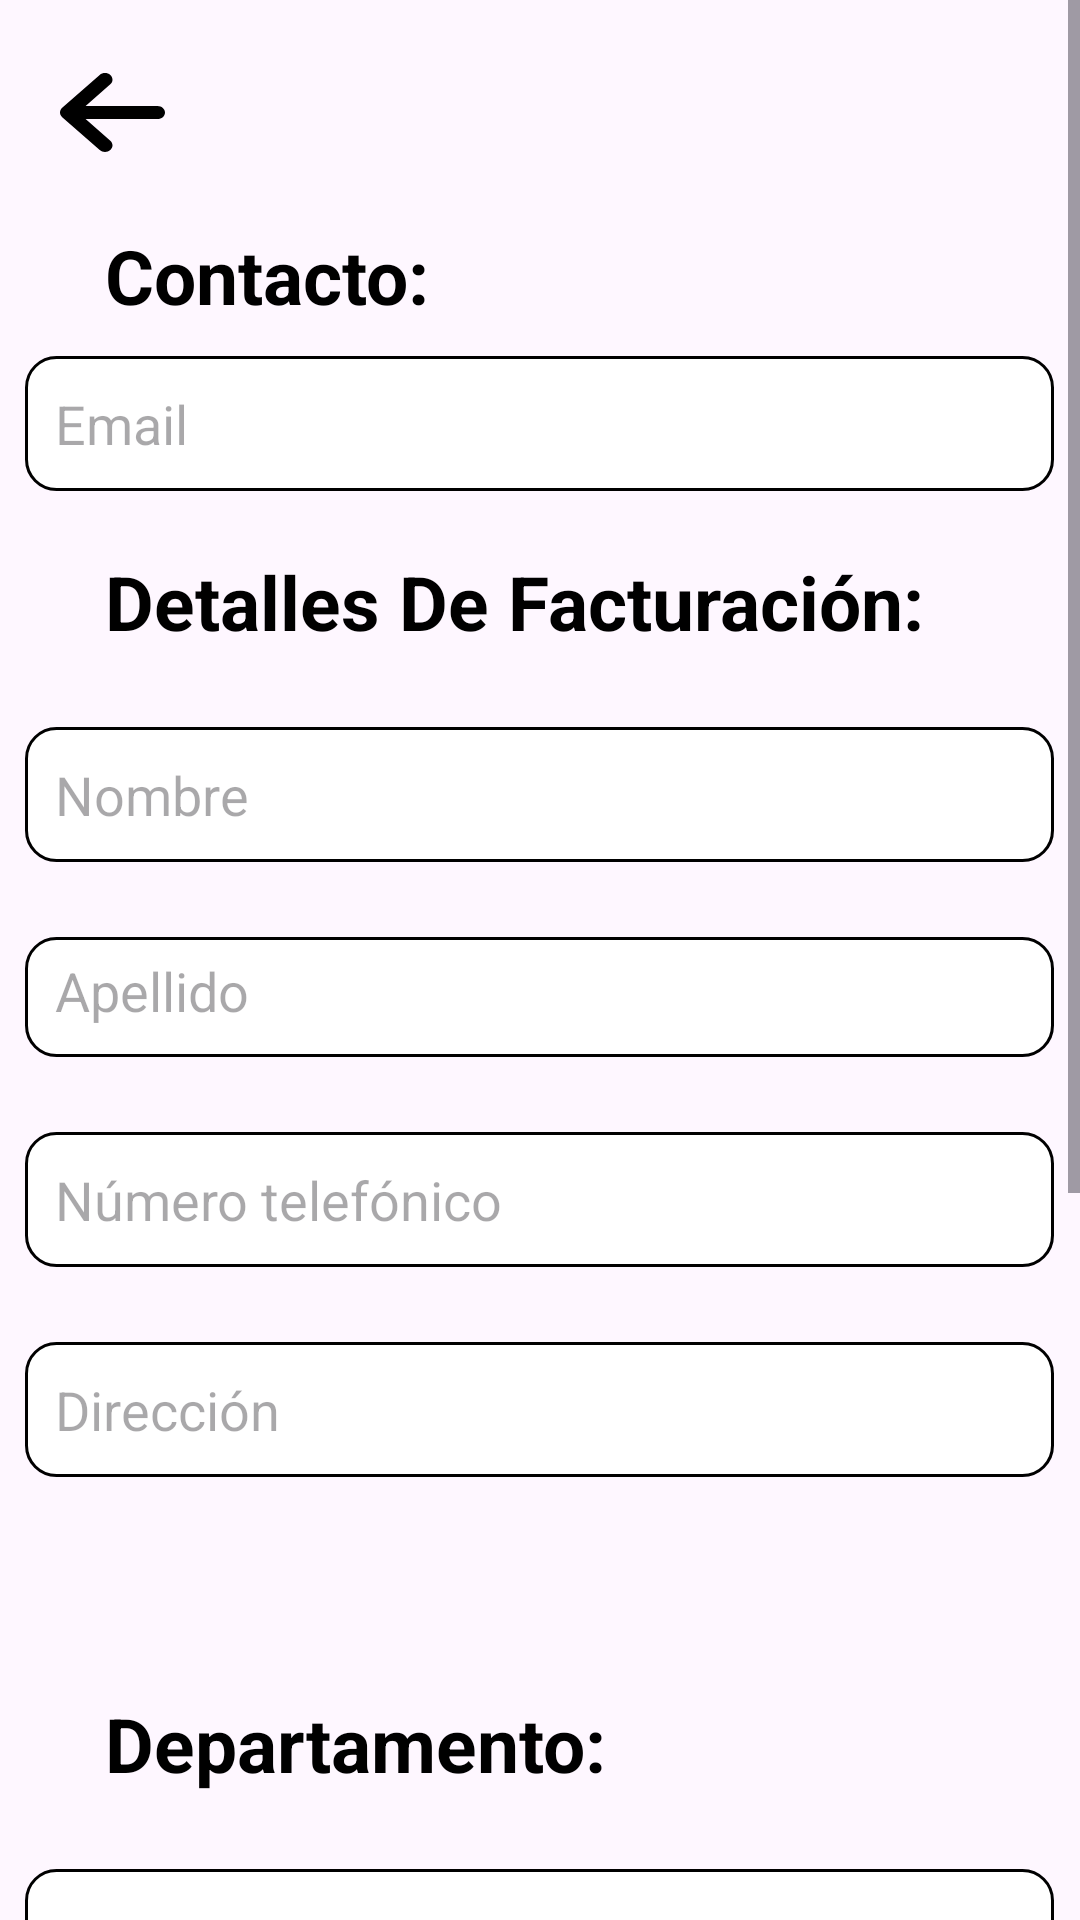

Icon bounding boxes for this 1080*1920 phone screenshot, format (x1, y1, x2, y2):
arrow left: (60, 73, 165, 152)
